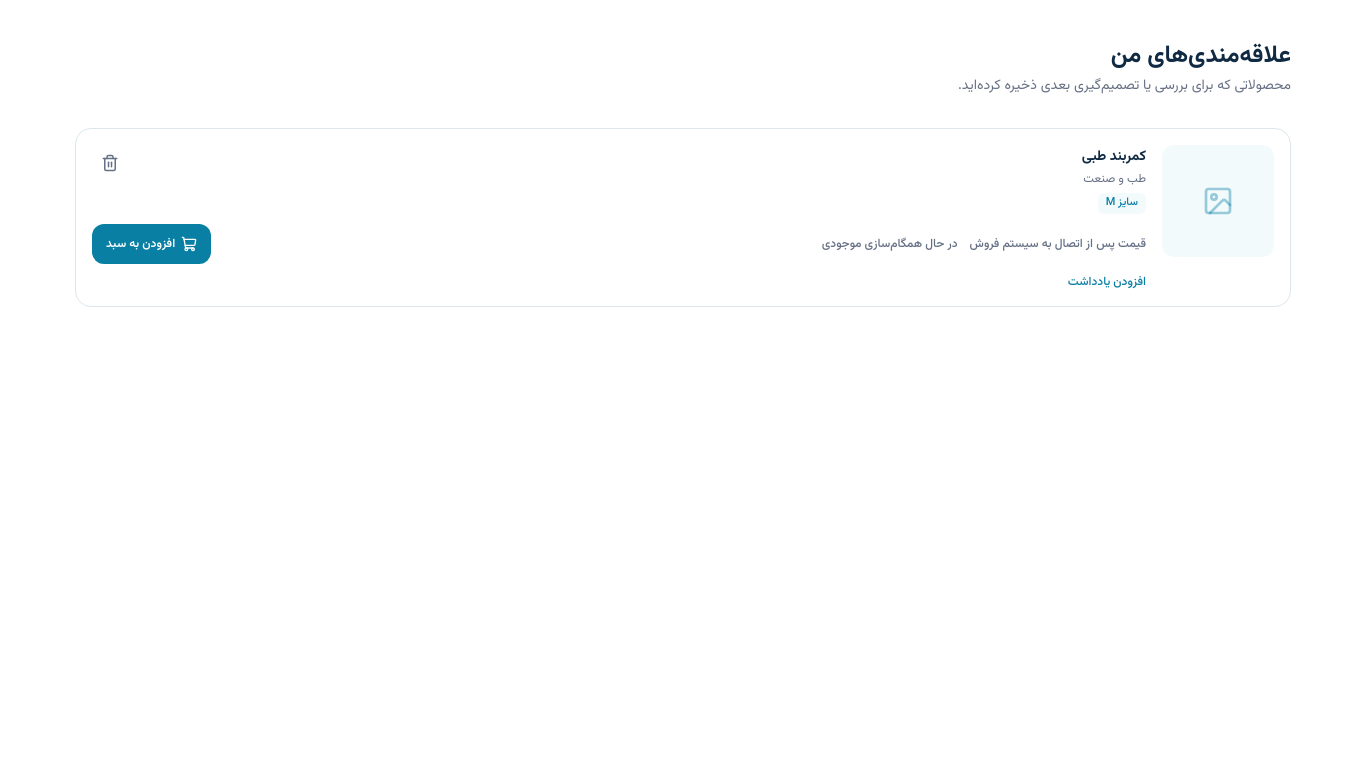
Test: WishlistPage › removes an item from the list after a successful remove, and the header/product state stays in sync
Expected: the link "کمربند طبی" is shown, 1082,146 -> 1146,168
Click the button named "حذف کمربند طبی از علاقه‌مندی‌ها": (110, 163) 92,145 -> 128,181
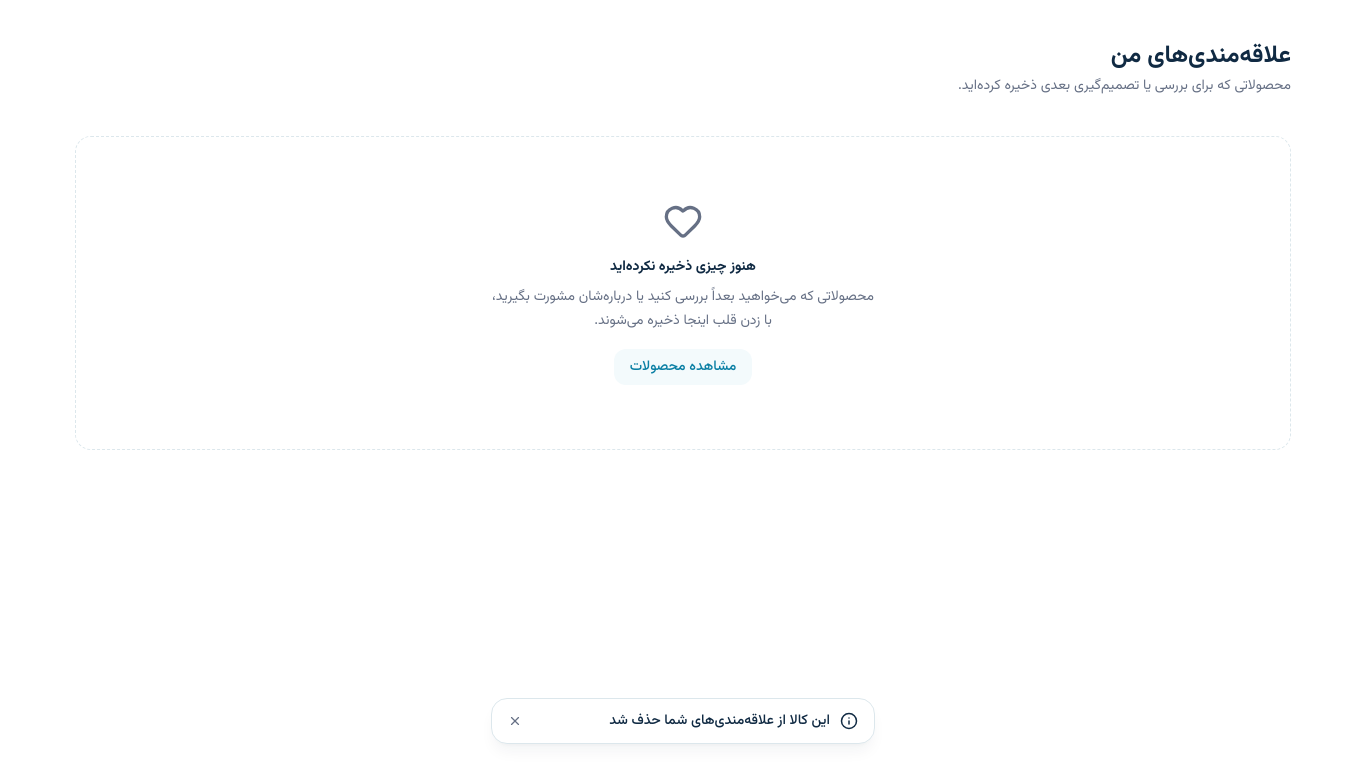
Result: the link "کمربند طبی" is gone
Result: the text "هنوز چیزی ذخیره نکرده‌اید" is shown at 610,256 -> 756,278
